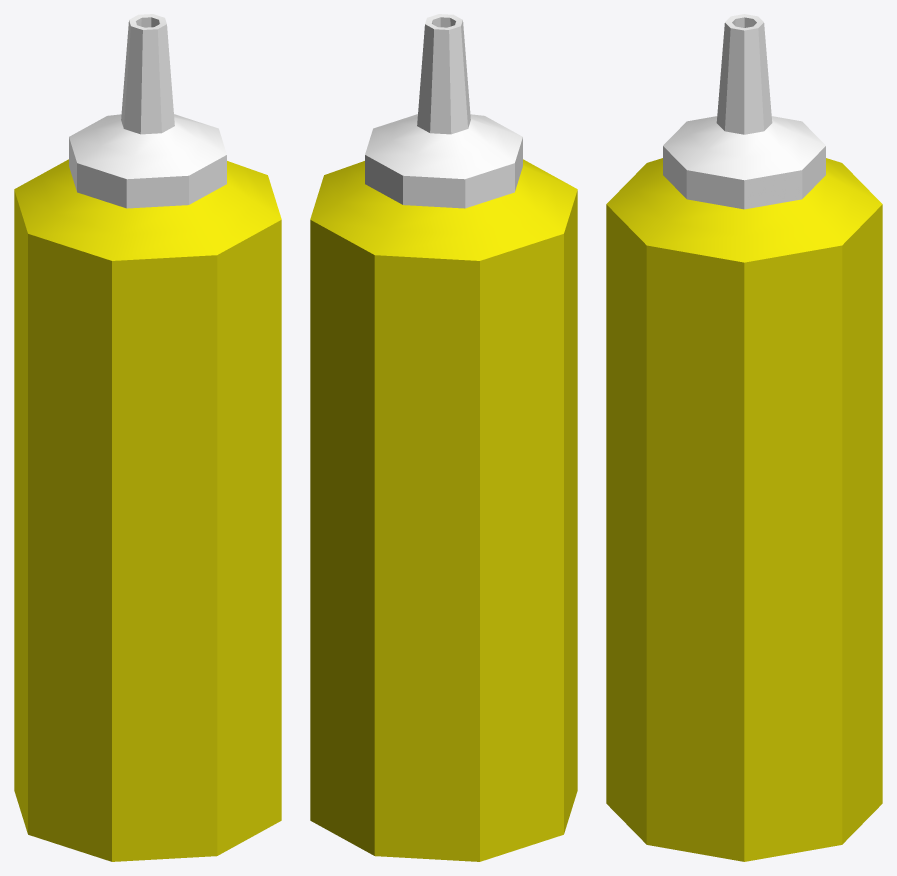
The model's file is SauceC.fbx.
The picture shows the model from 3 angles, left to right: view 1: azimuth 30°, elevation 25°; view 2: azimuth 150°, elevation 25°; view 3: azimuth 270°, elevation 25°; orthographic projection.
Parts seen in each view (by area): view 1: SauceC; view 2: SauceC; view 3: SauceC.
Boxes of the visible parts, x1,y1,x2,y2 form: SauceC: (14, 14, 281, 861); SauceC: (310, 14, 577, 861); SauceC: (606, 14, 882, 861).
Size of the model in its own units: 85.64 by 267 by 85.64.
